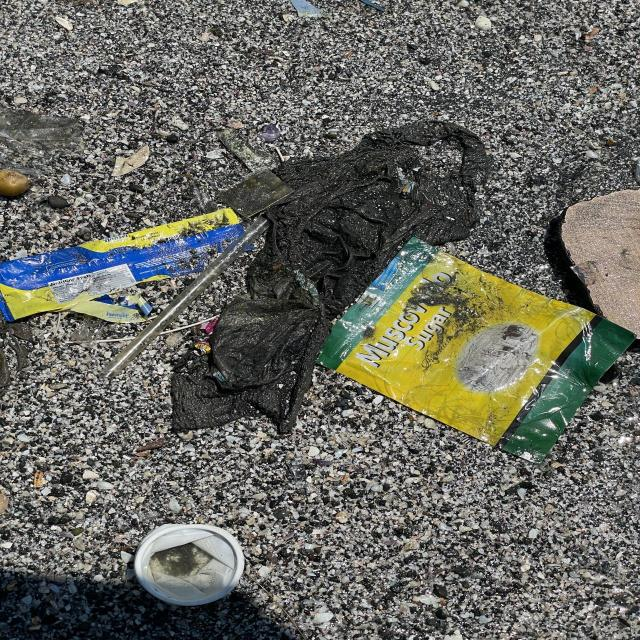plastic_waste: (313, 244, 636, 462), (1, 210, 247, 325), (136, 524, 247, 608)
